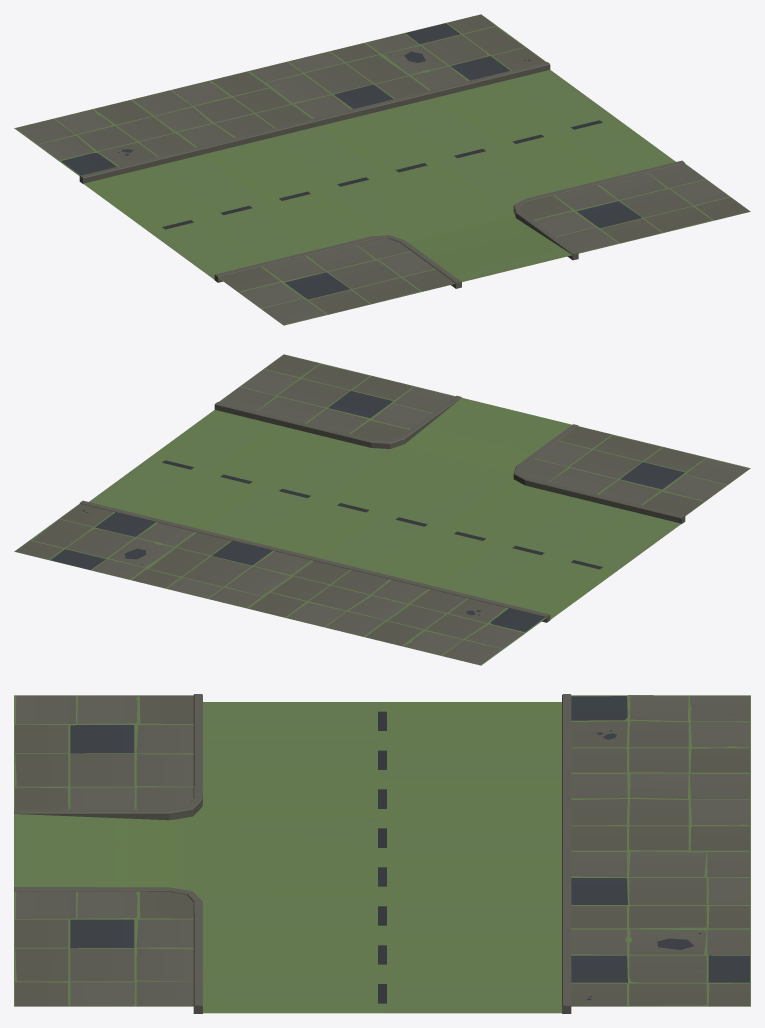
File: Road_22.fbx
3 views of the same model, one above another, from view 1: azimuth 30°, elevation 25°; view 2: azimuth 150°, elevation 25°; view 3: azimuth 270°, elevation 25° (orthographic). The views are drawn at different scales.
Visible parts, largest first — view 1: Road_22; view 2: Road_22; view 3: Road_22.
Boxes of the visible parts, x1,y1,x2,y2 form: Road_22: [14, 14, 750, 325]; Road_22: [14, 354, 750, 665]; Road_22: [14, 694, 750, 1013].
Size of the model in its own units: 12.01 by 0.15 by 12.
